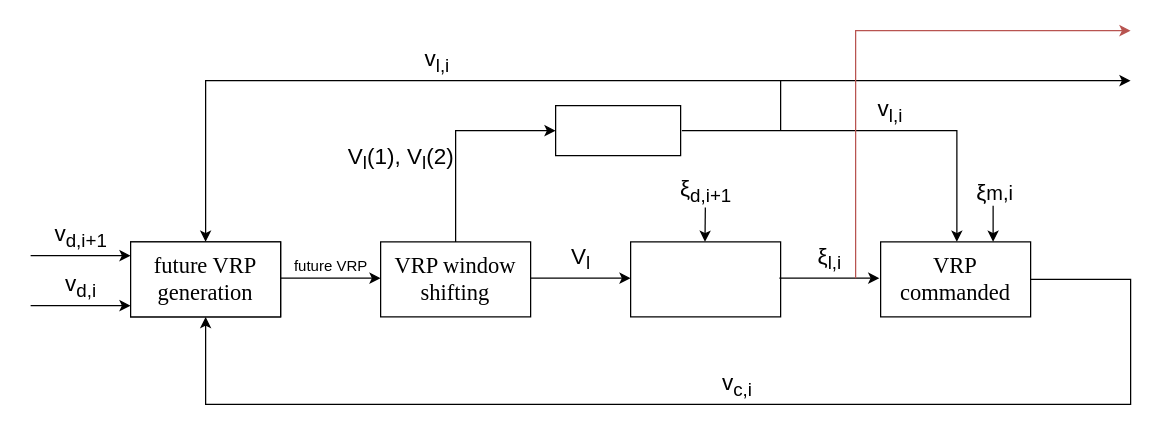
Image size: 1163x436. Some labels were removed from this diagram. Here are the shapes that lost their labels. From the top down, the centre of each, then its label:
point (617, 130): f ILC
point (705, 279): DCM interpolation
